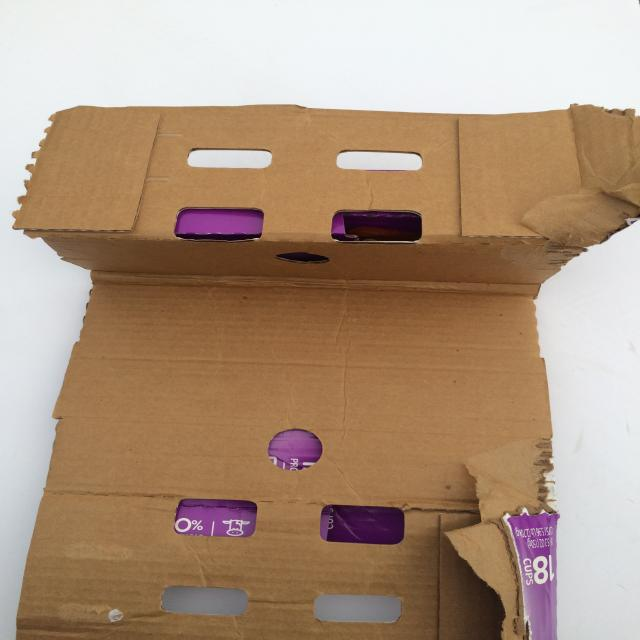cardboard: (11, 102, 638, 638)
